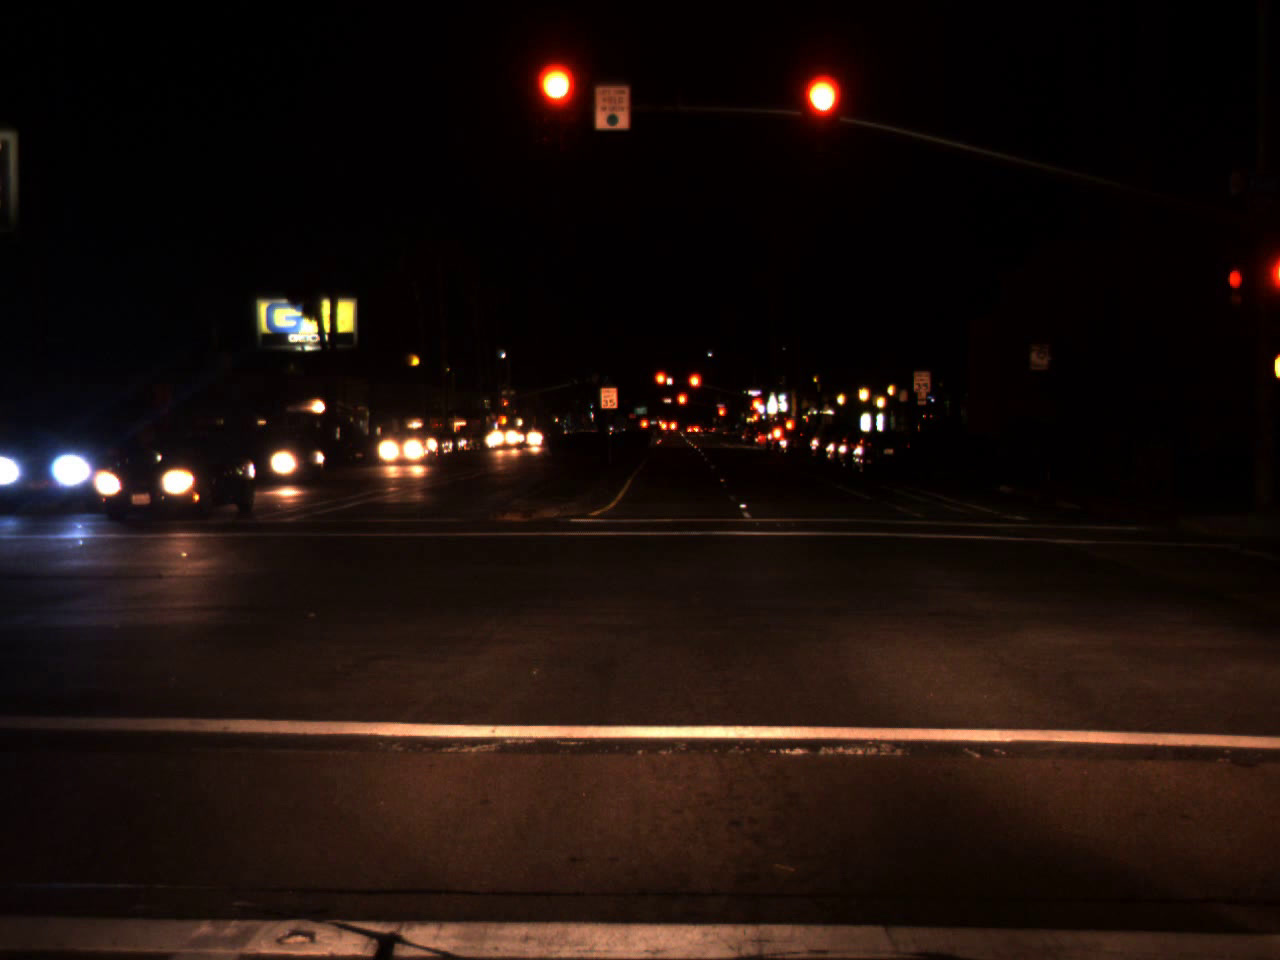stop: (537, 65, 577, 143), (802, 75, 841, 153), (686, 372, 702, 401), (653, 370, 668, 399), (675, 391, 688, 418), (717, 406, 726, 427), (751, 398, 761, 411), (502, 399, 508, 412)
